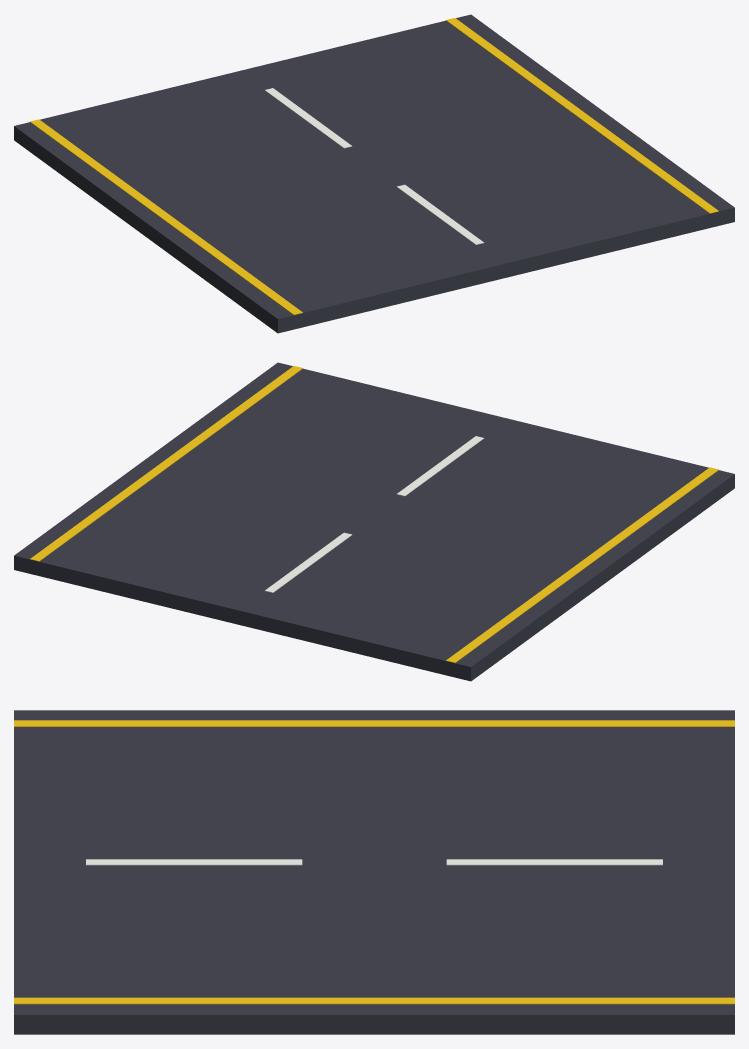
File: env_road_straight.fbx
The picture shows the model from 3 angles, top to bottom: view 1: azimuth 30°, elevation 25°; view 2: azimuth 150°, elevation 25°; view 3: azimuth 270°, elevation 25°; orthographic projection. The views are drawn at different scales.
Parts seen in each view (by area): view 1: env_road_straight_geo; view 2: env_road_straight_geo; view 3: env_road_straight_geo.
Boxes of the visible parts, x1,y1,x2,y2 form: env_road_straight_geo: (14, 14, 734, 333); env_road_straight_geo: (14, 362, 734, 681); env_road_straight_geo: (14, 710, 734, 1034).
Size of the model in its own units: 10 by 0.312 by 10.
